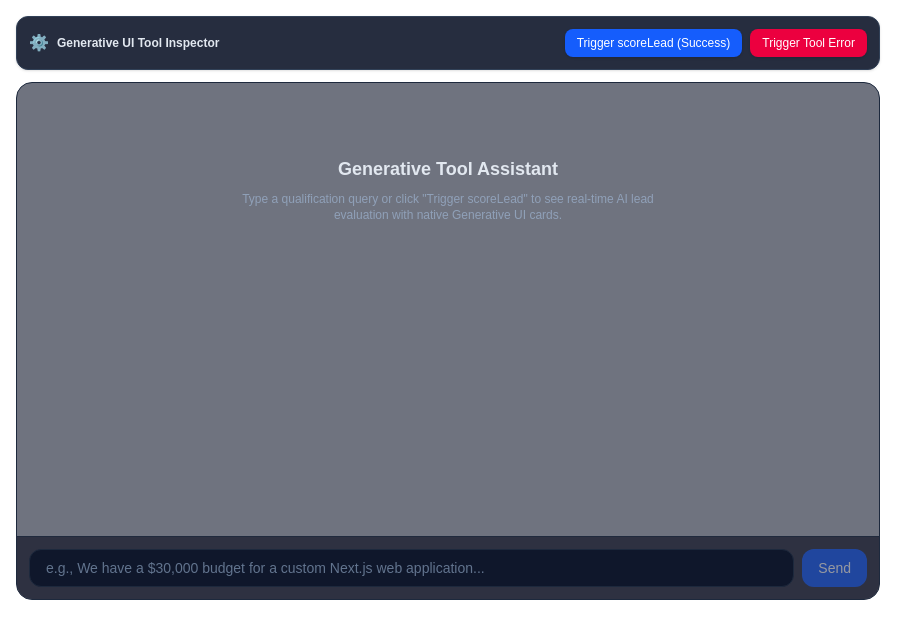
Test: Component Testing Suite (UI & Tool Lifecycle) › displays designed error card when tool execution encounters an exception
Click the button "Trigger Tool Error".
click(809, 43)  # box [750,29,867,57]
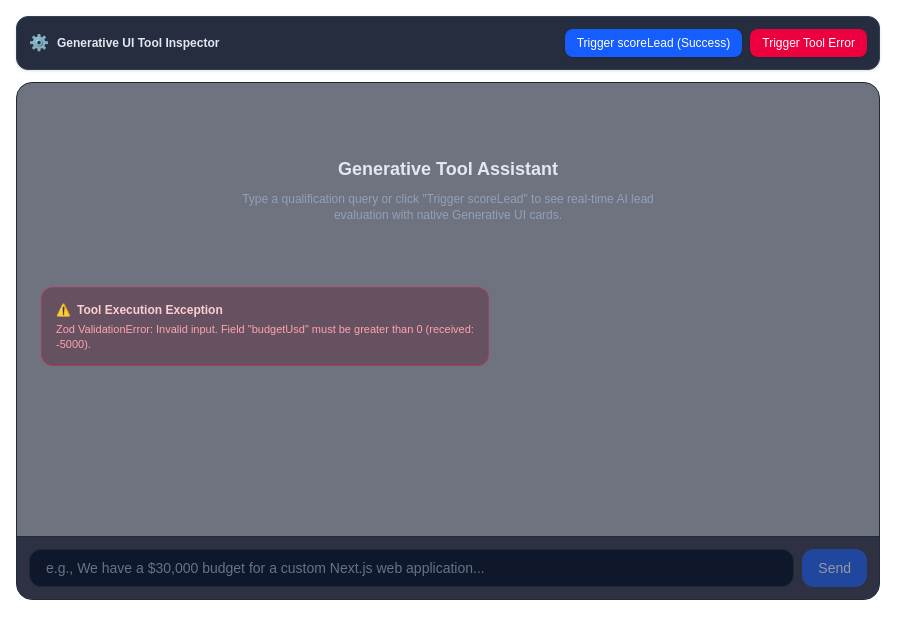
expect the text "Tool Execution Exception" is shown: met, box [77,302,223,318]
